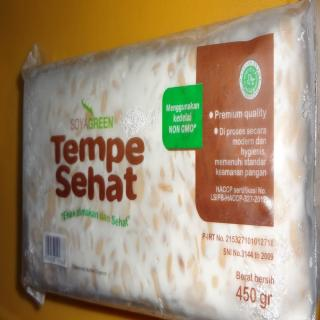Tempe: (21, 2, 319, 319)
